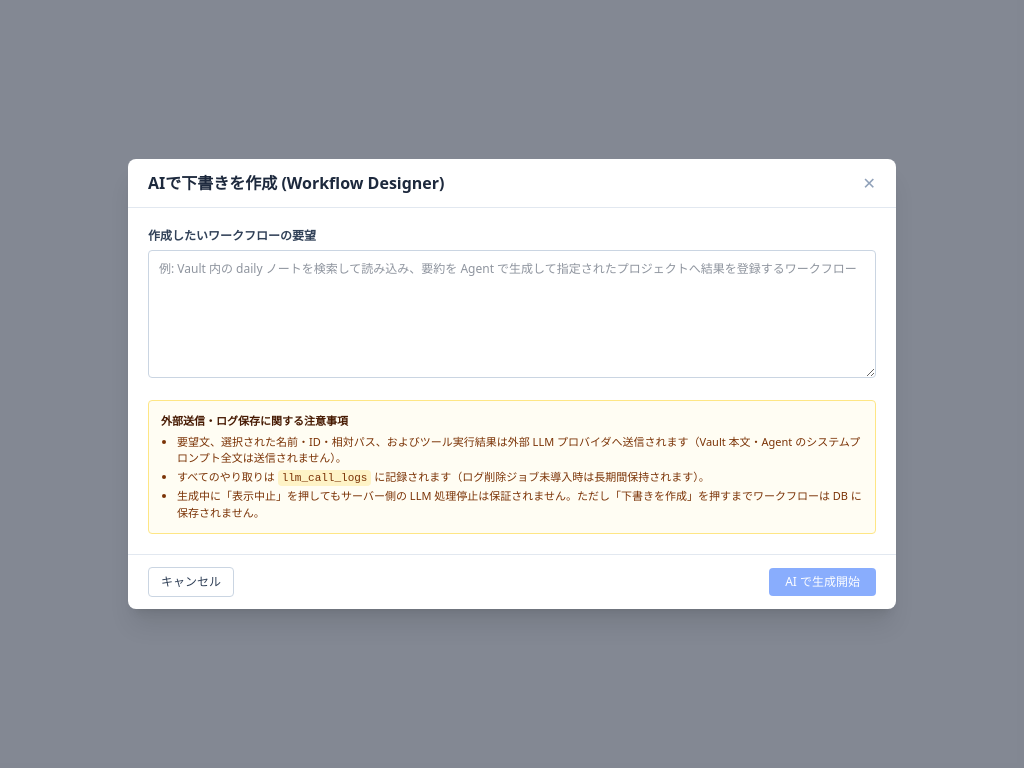
Test: WorkflowDesignerModal › disables import button when structural errors exist
Replace the text in the text box with placeholder "Vault 内の daily ノート" with "Broken graph" at (512, 314), box top-left (148, 250), bottom-right (876, 378)
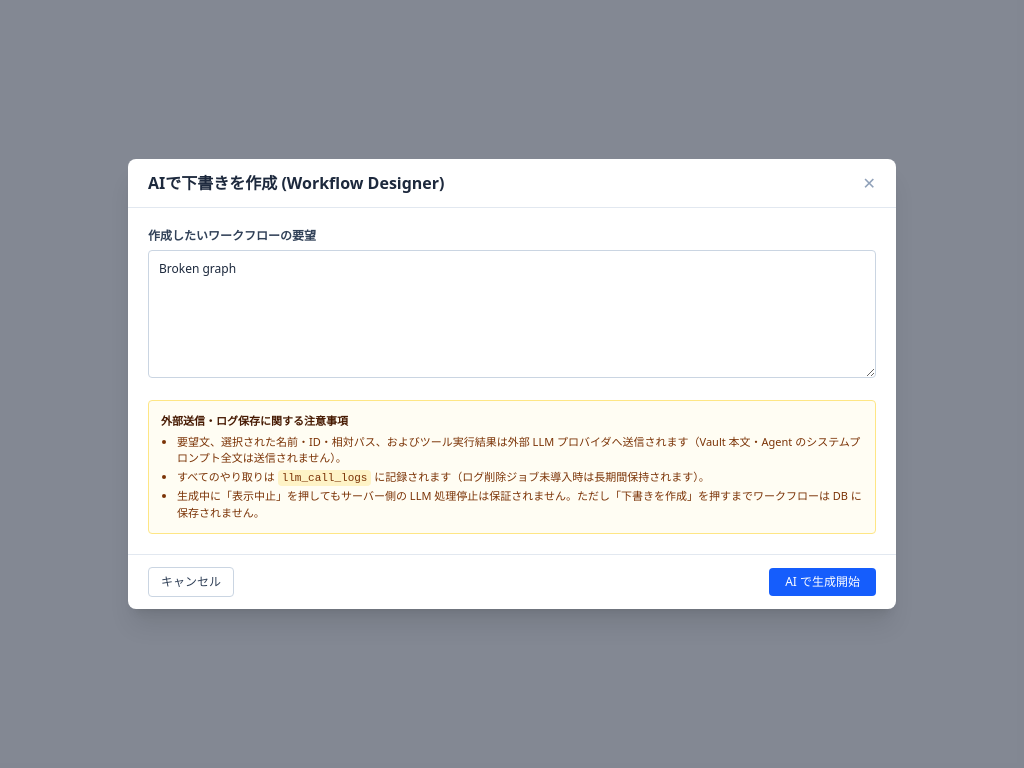
Click the button "AI で生成開始".
click(823, 582)  # box top-left (769, 568), bottom-right (876, 596)
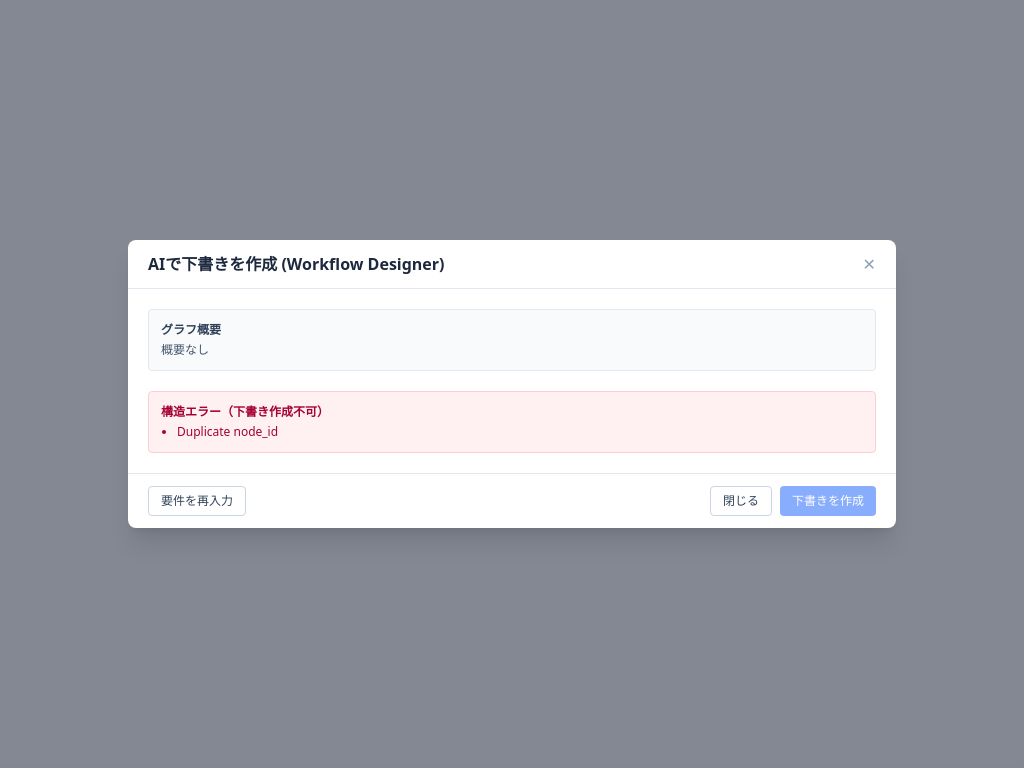
Expected: the button "下書きを作成" is disabled, top-left (780, 486), bottom-right (876, 516)
Now the list item "Duplicate node_id" is shown, box top-left (177, 423), bottom-right (278, 440)
